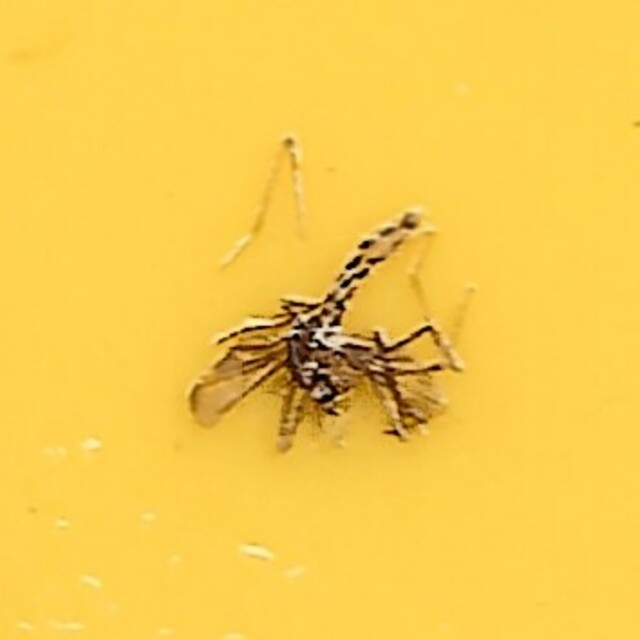Nematocera: (181, 193, 459, 447)
